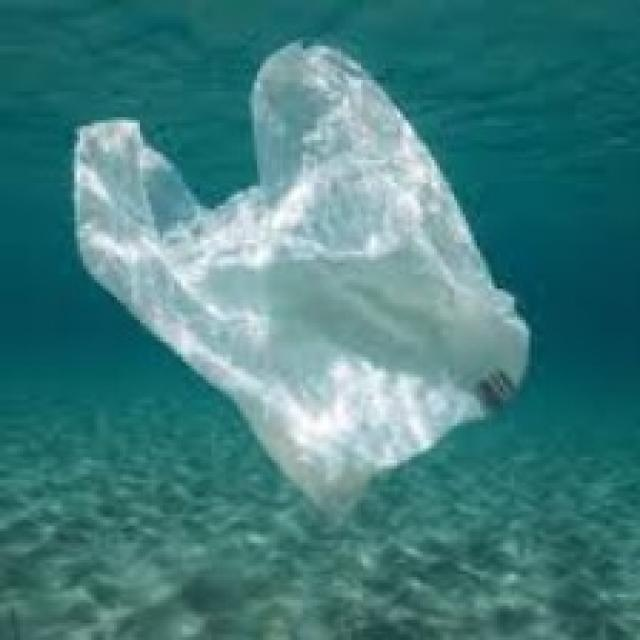plastic_bag: (67, 37, 538, 527)
